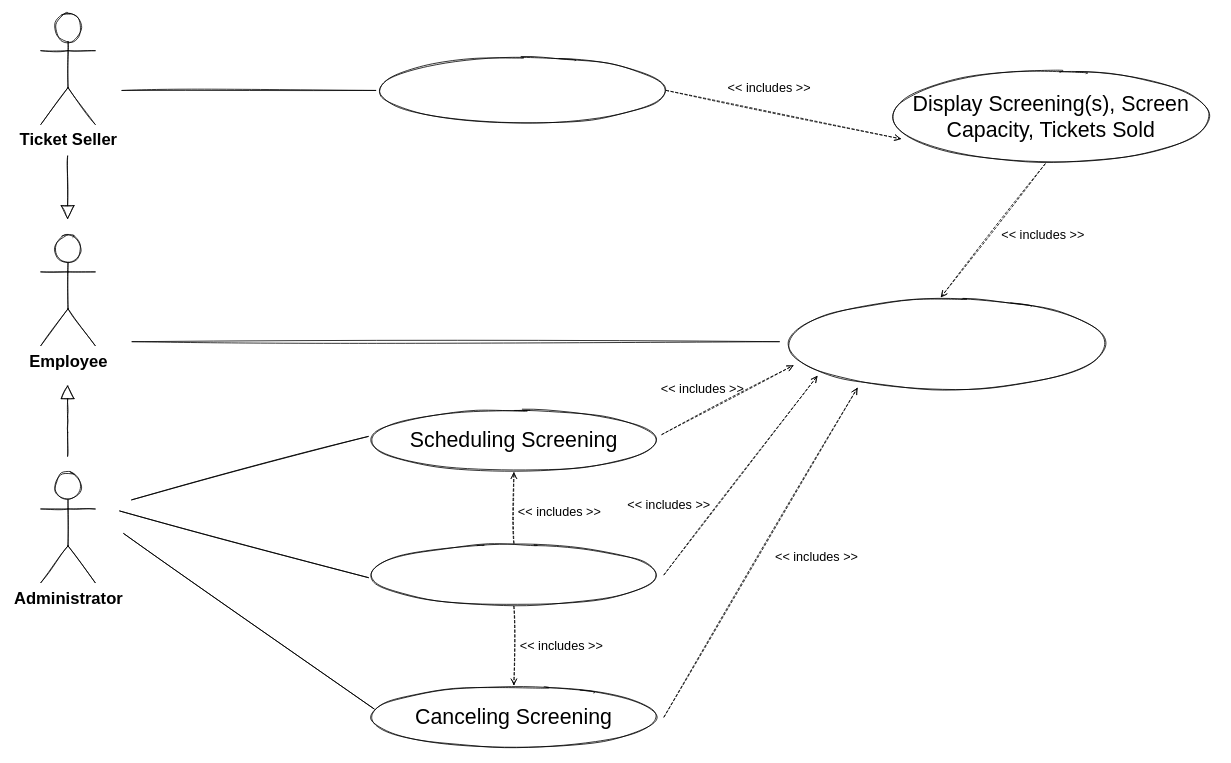
The diagram is 1231 pixels wide and 763 high, and some of its shapes have lost their labels. Here are the shapes that lost their labels. From the top down, the centre of each, then its label:
[522,90]: Selling Tickets
[946,343]: Display Screening(s)
[513,574]: Re-Scheduling Screening
